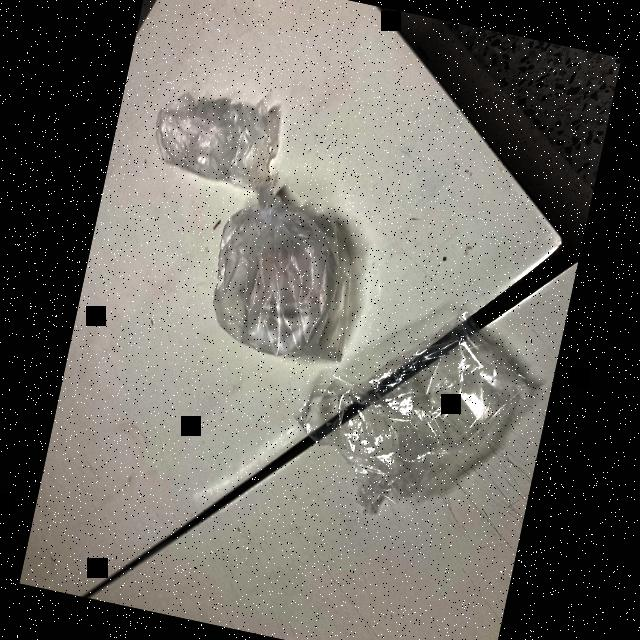plastic_bag: (270, 274, 552, 560), (192, 174, 369, 388)
scrap_plastic: (144, 70, 304, 192)
